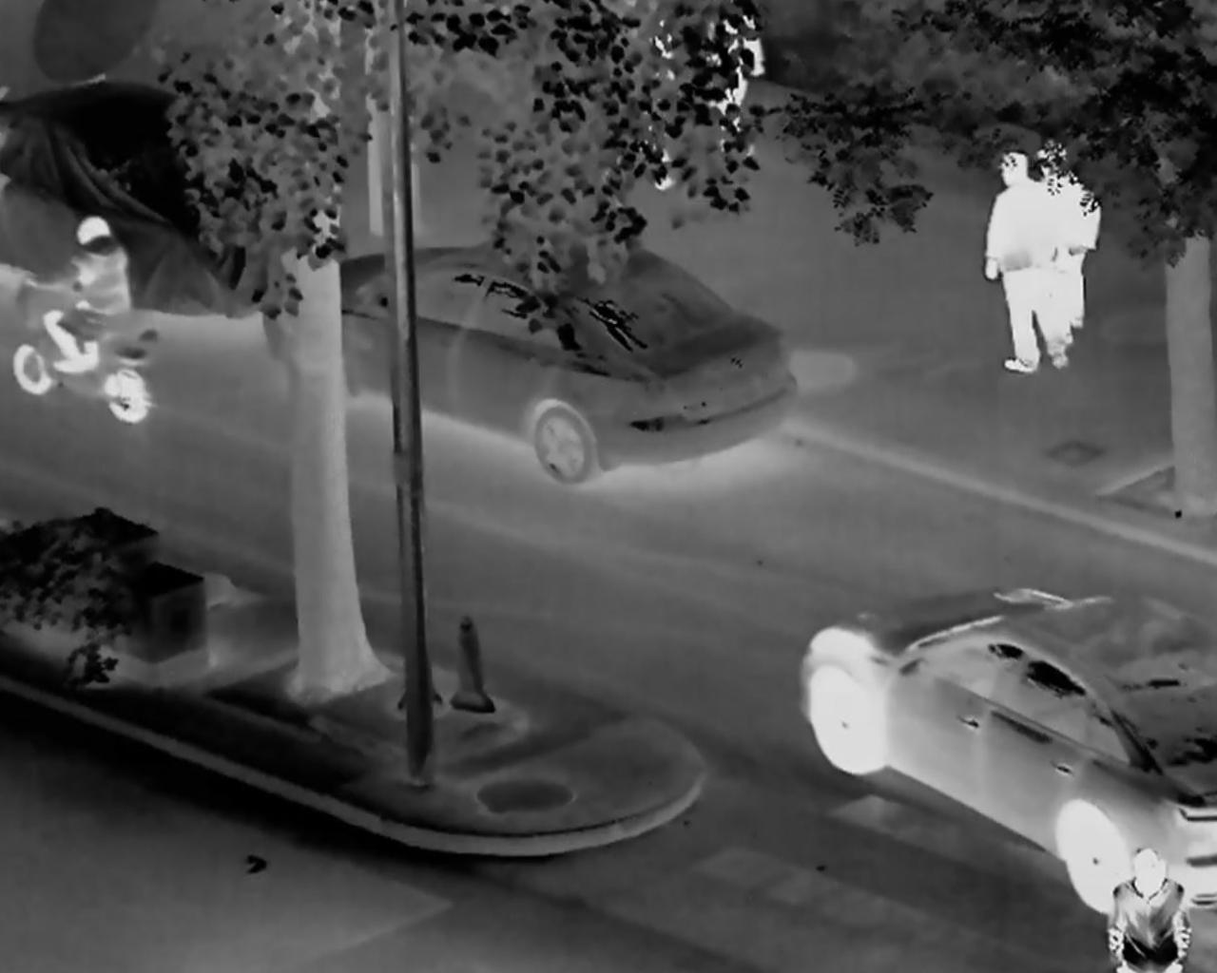person: (976, 152, 1067, 372), (42, 217, 133, 375), (1034, 143, 1101, 349), (1106, 848, 1191, 973)
